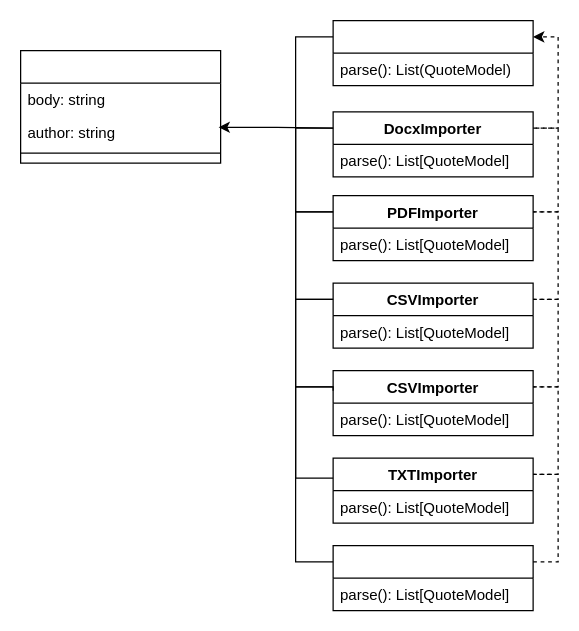
Some shapes in this 579 by 631 pixel diagram are drawn without their labels. The box of each missing label's shape, as (x1, y1, x2, y2) in pixels:
IngestorInterface(ABC): (332, 19, 533, 86)
QuoteModel: (19, 49, 221, 163)
XlsxImporter: (332, 544, 533, 611)
